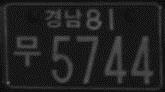1: (105, 8, 117, 29)
4: (130, 36, 154, 85), (104, 36, 126, 82)
5: (49, 34, 73, 83)
7: (76, 35, 99, 83)
8: (85, 8, 101, 29)
경남_O: (44, 8, 82, 28)
무: (13, 35, 40, 67)
